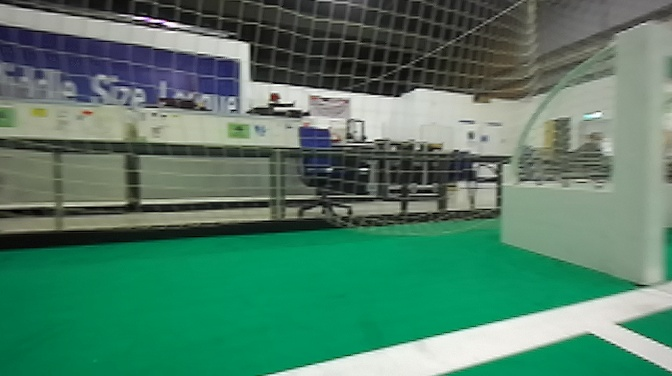goalpost: (624, 21, 661, 292)
